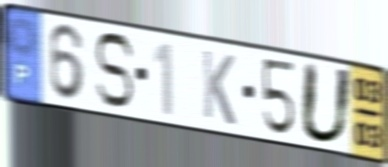1: (152, 40, 174, 119)
5: (260, 55, 298, 138)
6: (47, 21, 88, 104)
K: (200, 46, 237, 129)
S: (92, 30, 137, 111)
U: (297, 59, 356, 147)
